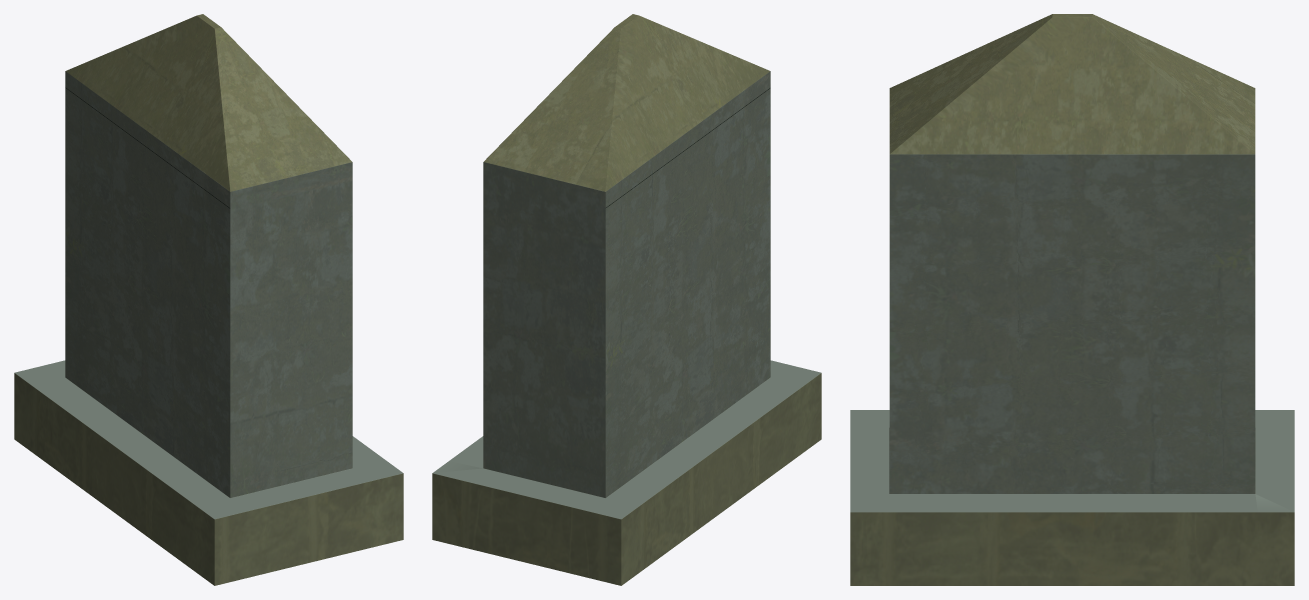
The model's file is Grave4.fbx.
3 views of the same model, side by side, from view 1: azimuth 30°, elevation 25°; view 2: azimuth 150°, elevation 25°; view 3: azimuth 270°, elevation 25° (orthographic). The views are drawn at different scales.
Visible parts, largest first — view 1: Box001; view 2: Box001; view 3: Box001.
Boxes of the visible parts, x1,y1,x2,y2 form: Box001: (14, 14, 403, 585); Box001: (432, 14, 821, 585); Box001: (850, 14, 1294, 585).
Bounding box in the file's own units: 36.15 × 85.47 × 66.32.
1 material, 1 textured.
